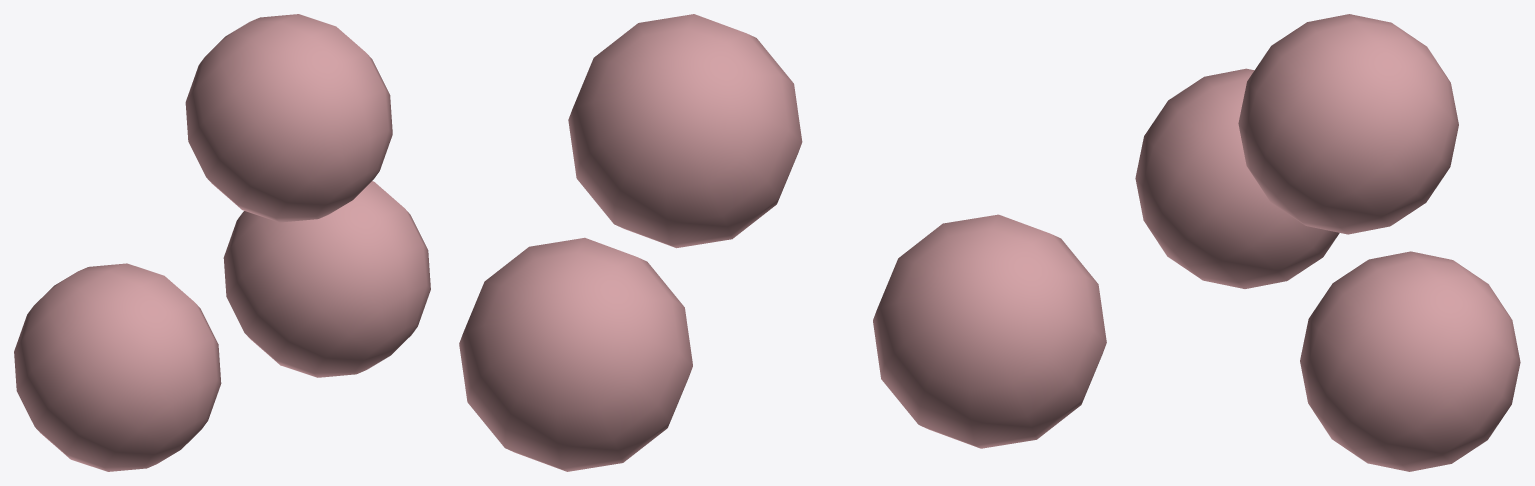
3 views of the same model, side by side, from view 1: azimuth 30°, elevation 25°; view 2: azimuth 150°, elevation 25°; view 3: azimuth 270°, elevation 25° (orthographic). The views are drawn at different scales.
Parts seen in each view (by area): view 1: ZA_86e79ad09b6addff; view 2: ZA_86e79ad09b6addff; view 3: ZA_86e79ad09b6addff.
Boxes of the visible parts, x1,y1,x2,y2 form: ZA_86e79ad09b6addff: [14, 14, 430, 471]; ZA_86e79ad09b6addff: [459, 14, 1106, 471]; ZA_86e79ad09b6addff: [1135, 14, 1520, 471].
Size of the model in its own units: 0.00665 by 0.00523 by 0.00454.
